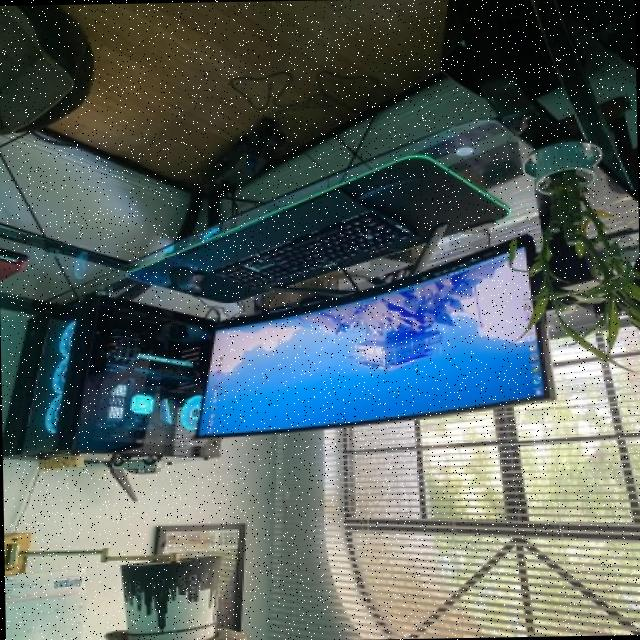Computer: (1, 291, 236, 467)
Monitor: (179, 232, 569, 446)
